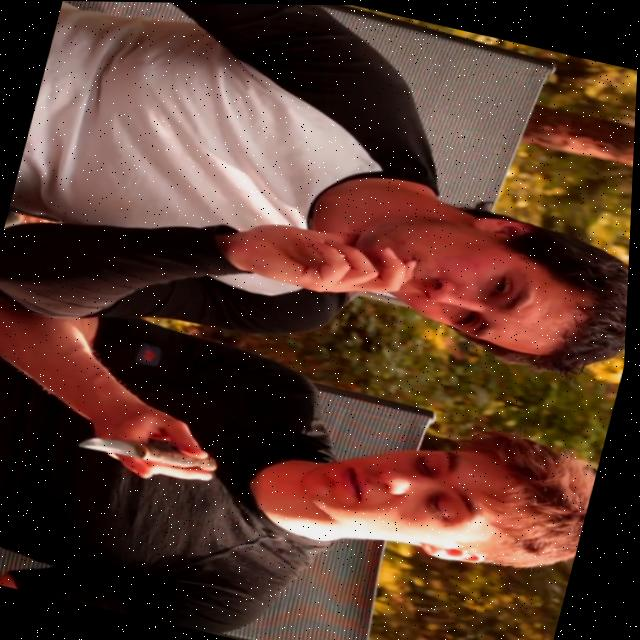knife: (77, 417, 234, 487)
